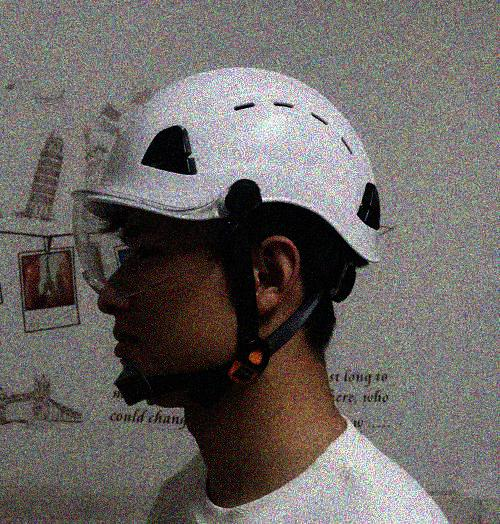helmet: (69, 66, 384, 401)
